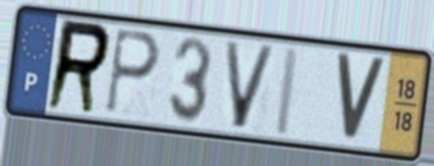3: (168, 34, 215, 128)
I: (270, 43, 303, 141)
P: (103, 26, 163, 117)
R: (42, 16, 114, 118)
V: (221, 38, 279, 133), (333, 50, 389, 147)
